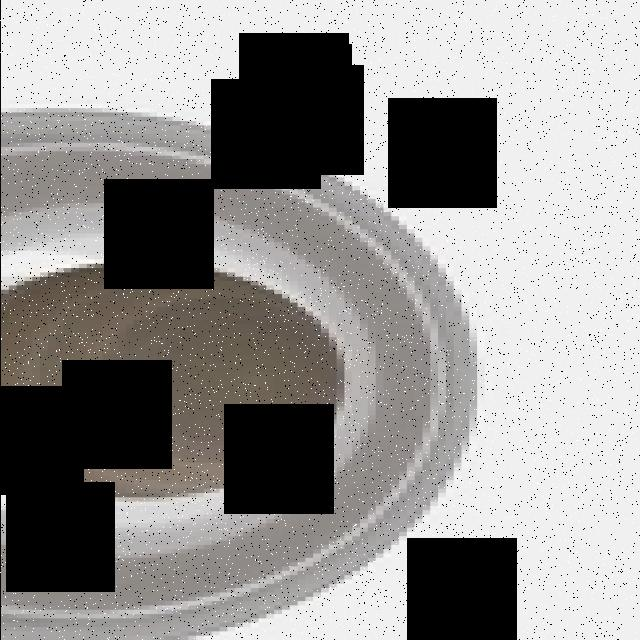Saturn: (0, 108, 492, 640)
